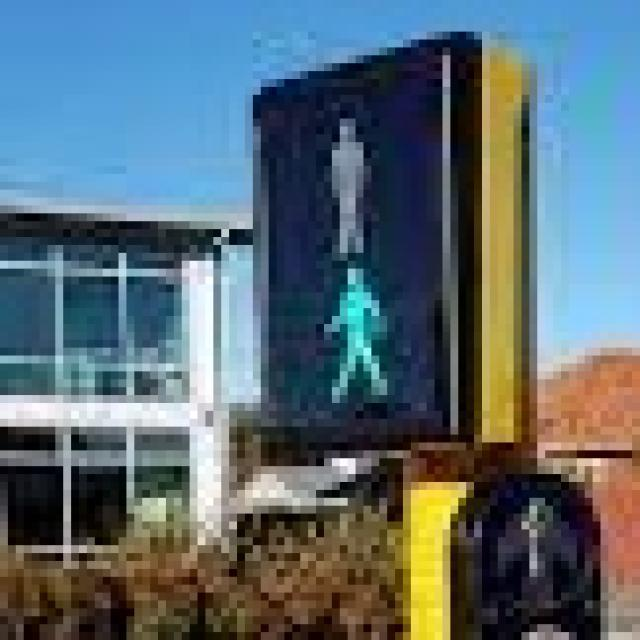geen-crossing: (276, 261, 411, 411)
